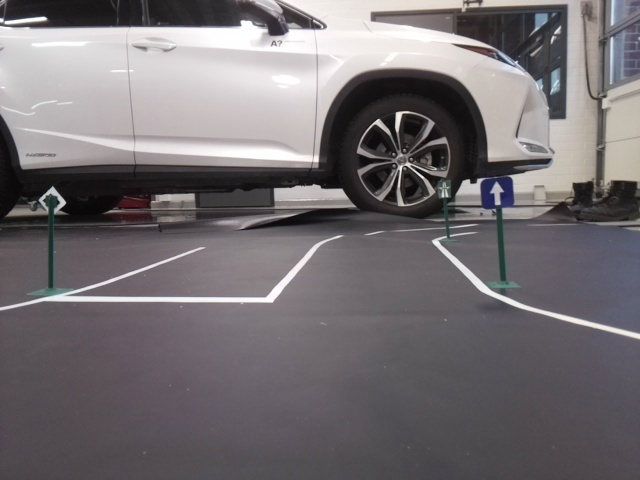HighwayEntrance: (438, 177, 452, 197)
OneWay: (480, 180, 513, 206)
